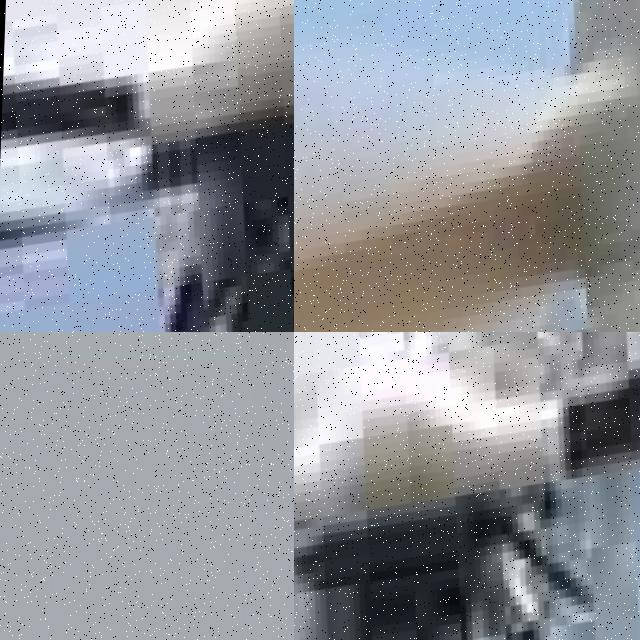0: (294, 332, 640, 640), (0, 0, 294, 332)
drone: (294, 0, 640, 332)
